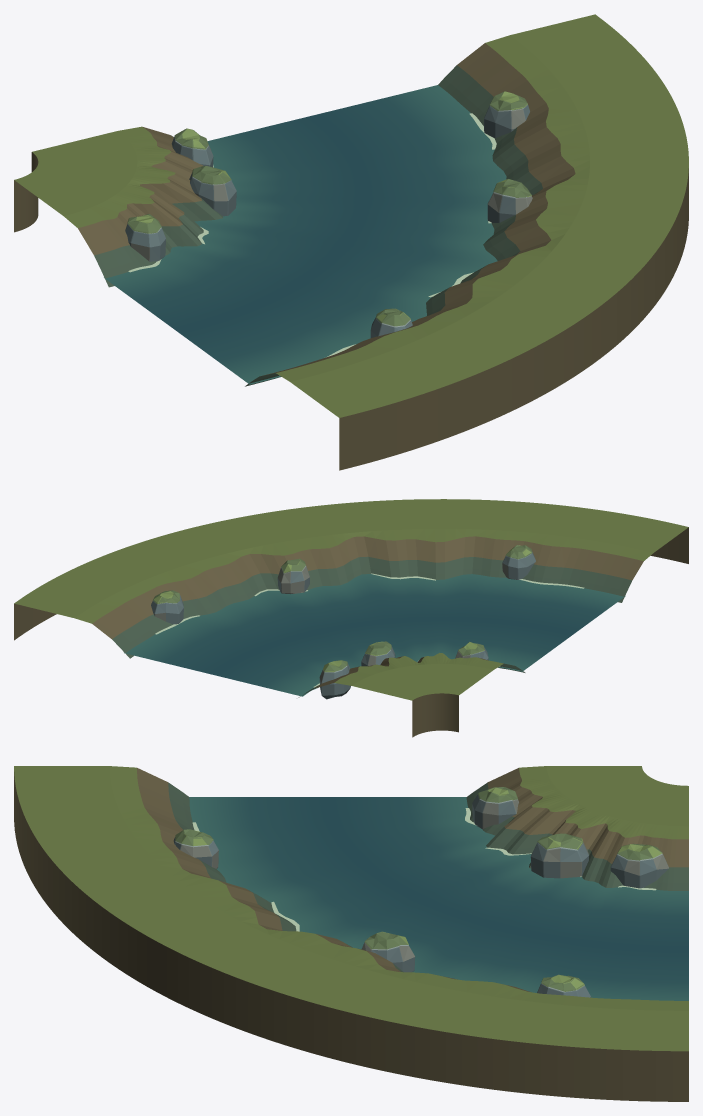
The model's file is stream_curve.glb.
The picture shows the model from 3 angles, top to bottom: view 1: azimuth 30°, elevation 25°; view 2: azimuth 150°, elevation 25°; view 3: azimuth 270°, elevation 25°; orthographic projection. The views are drawn at different scales.
Parts seen in each view (by area): view 1: Keep_Mesh; view 2: Keep_Mesh; view 3: Keep_Mesh.
Boxes of the visible parts, x1,y1,x2,y2 form: Keep_Mesh: [14, 14, 688, 470]; Keep_Mesh: [14, 499, 688, 737]; Keep_Mesh: [14, 766, 688, 1101].
Size of the model in its own units: 7.48 by 0.6682 by 7.48.
